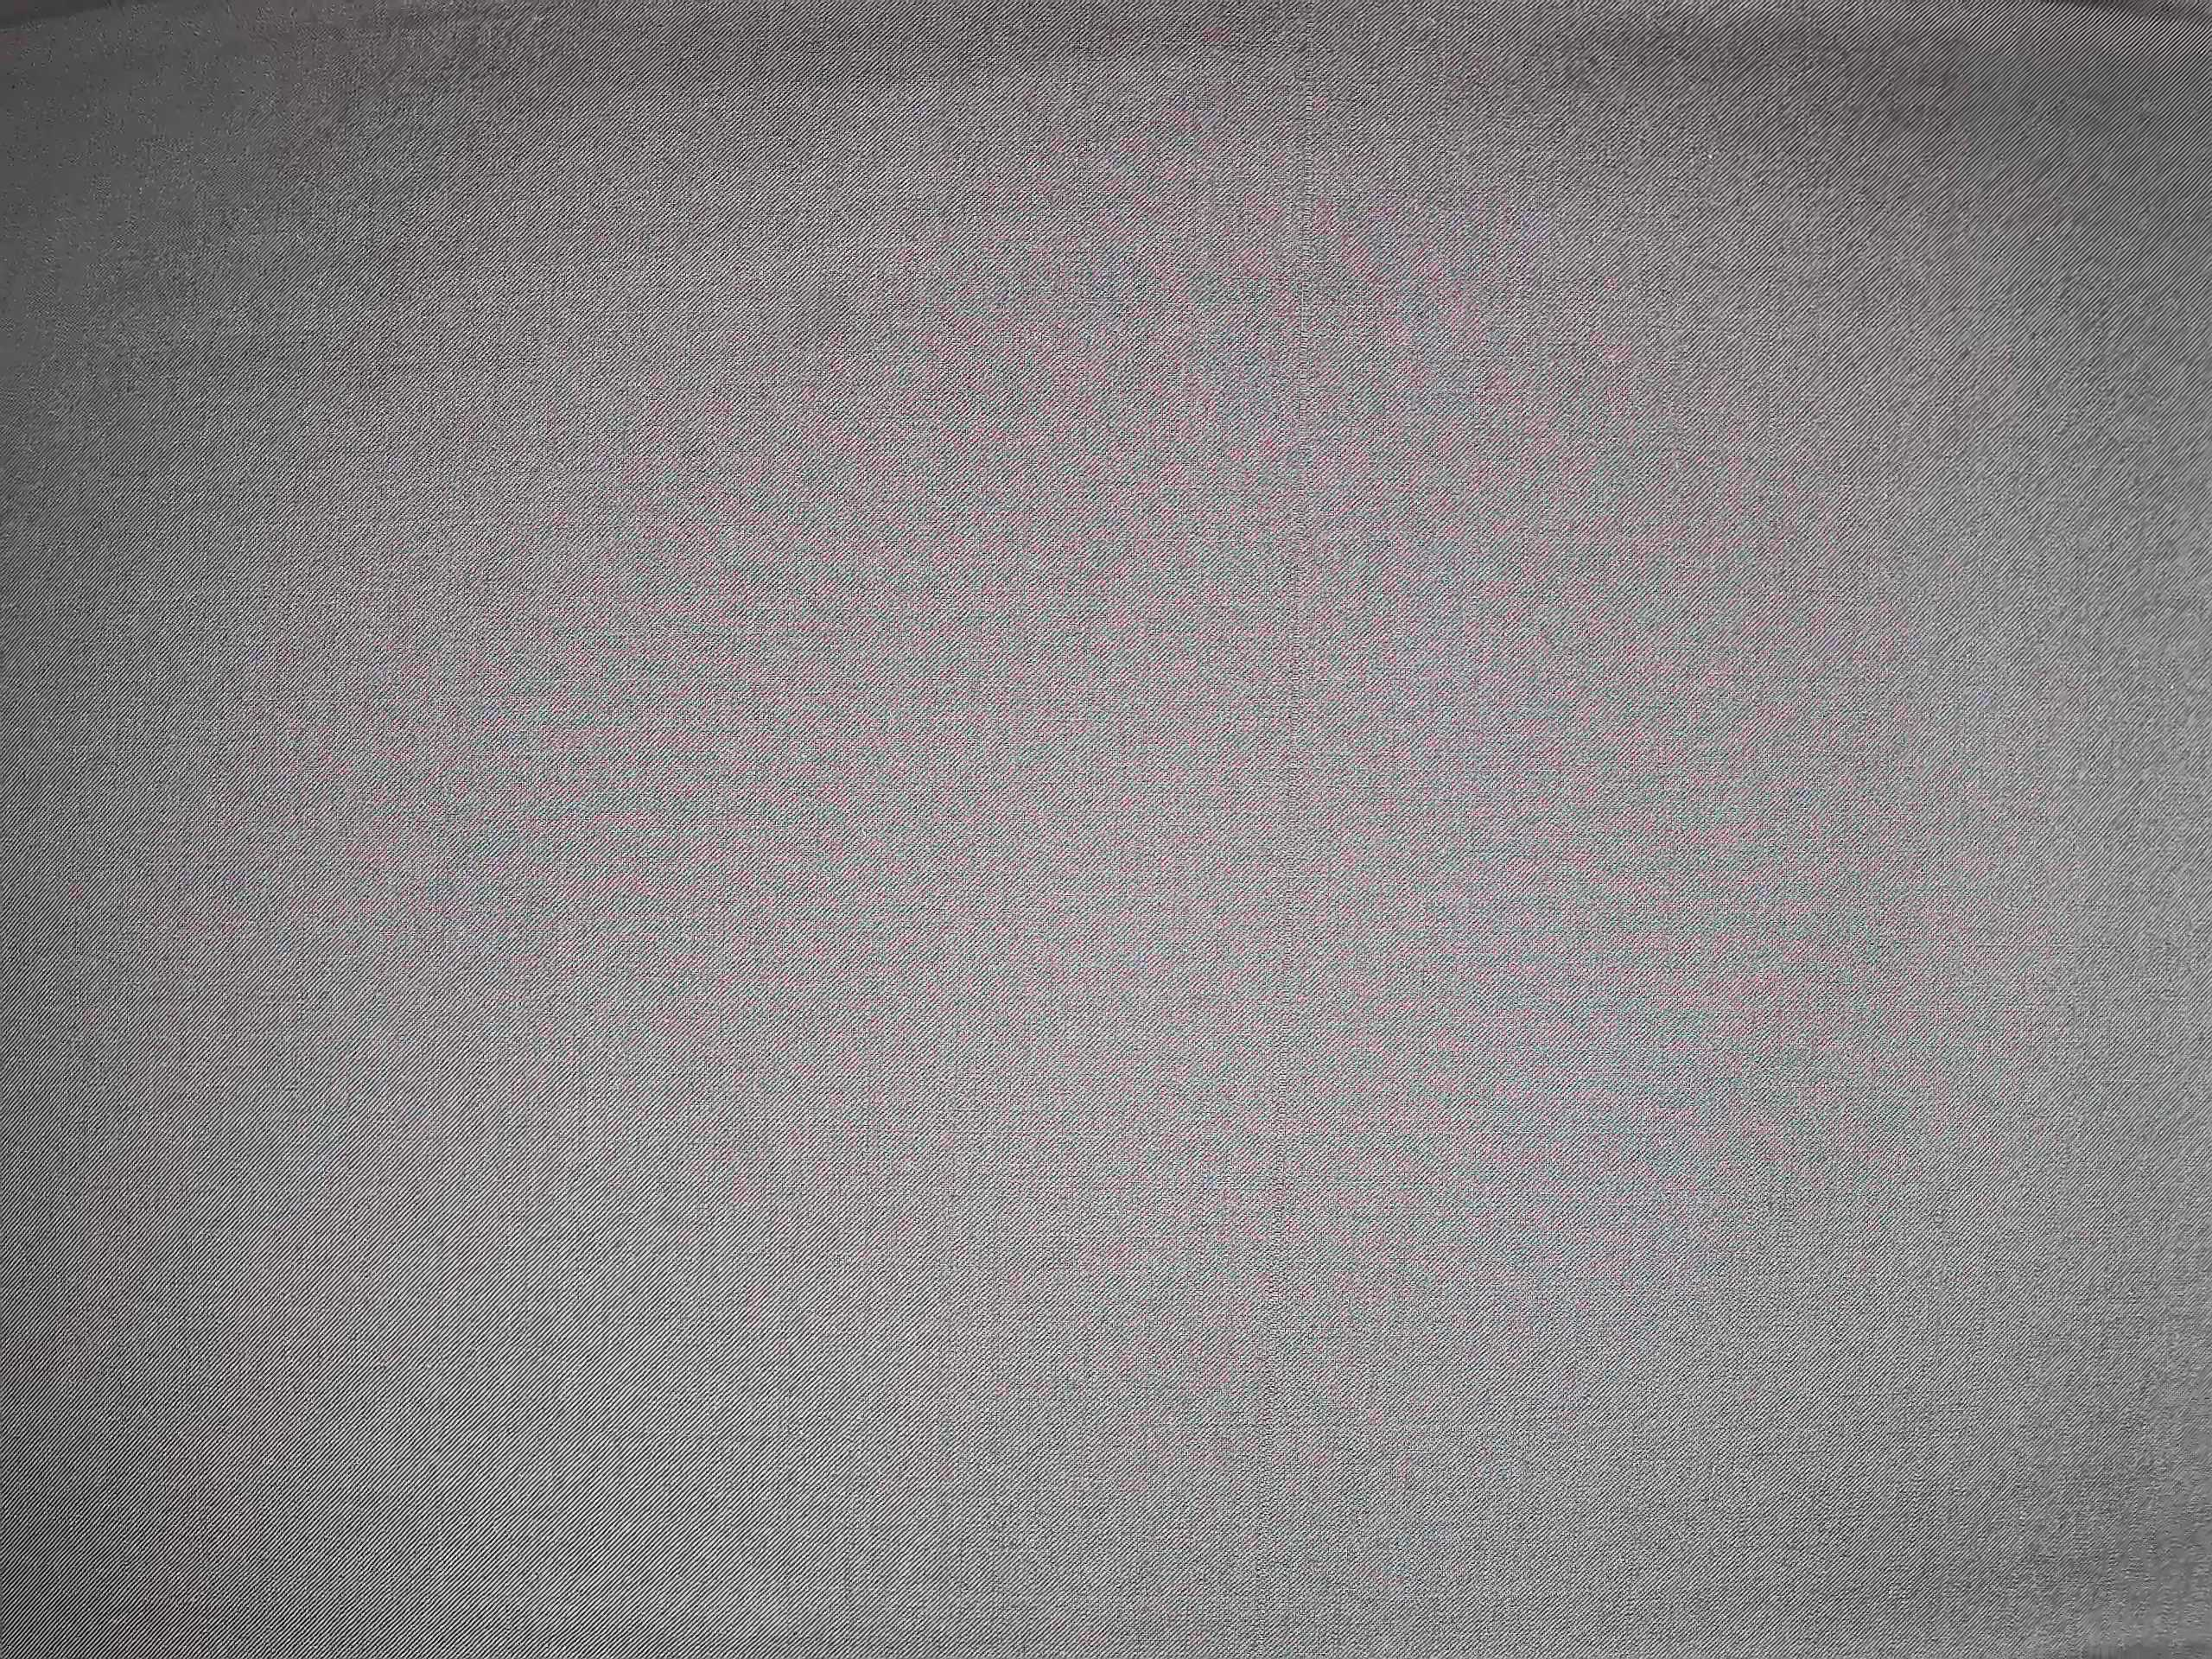end_out: (1245, 9, 1329, 1656)
